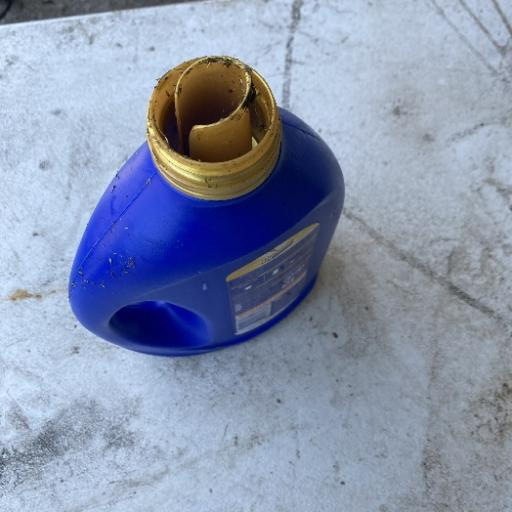Plastic: (64, 50, 349, 360)
